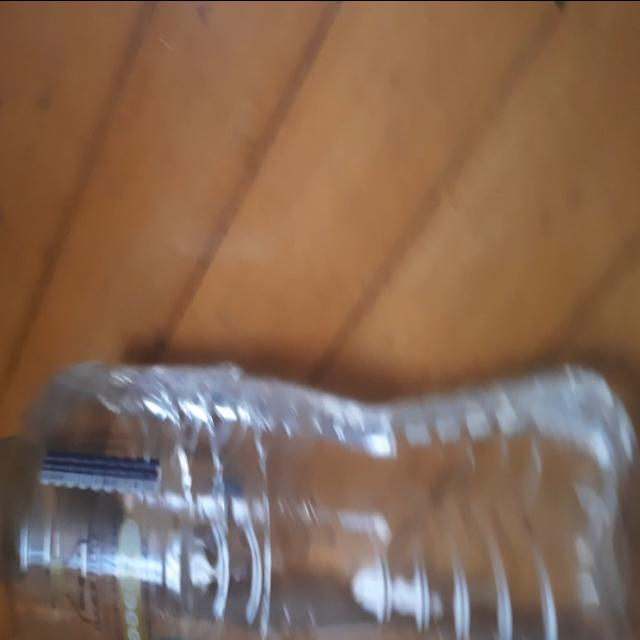Plastic: (0, 360, 640, 640)
